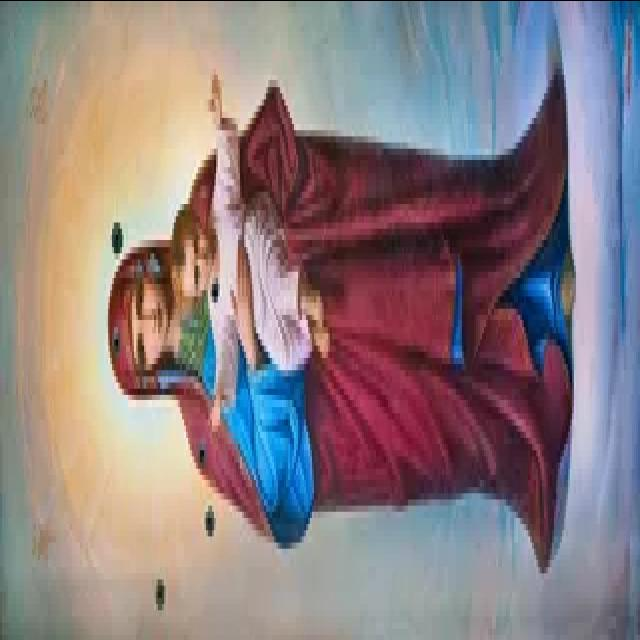mother of god: (81, 0, 582, 635)
